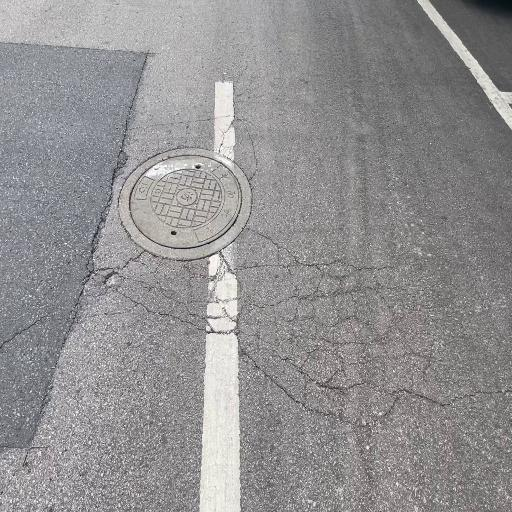Lubang: (119, 149, 254, 257)
Sambungan: (0, 39, 151, 452)
